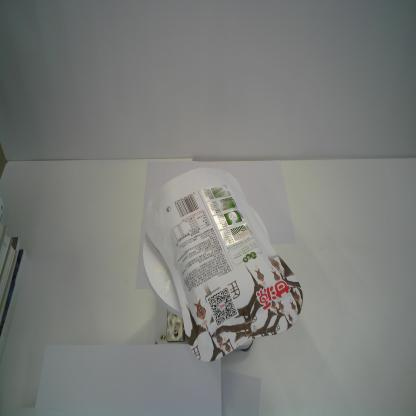Dried Fruit: (144, 166, 302, 364)
